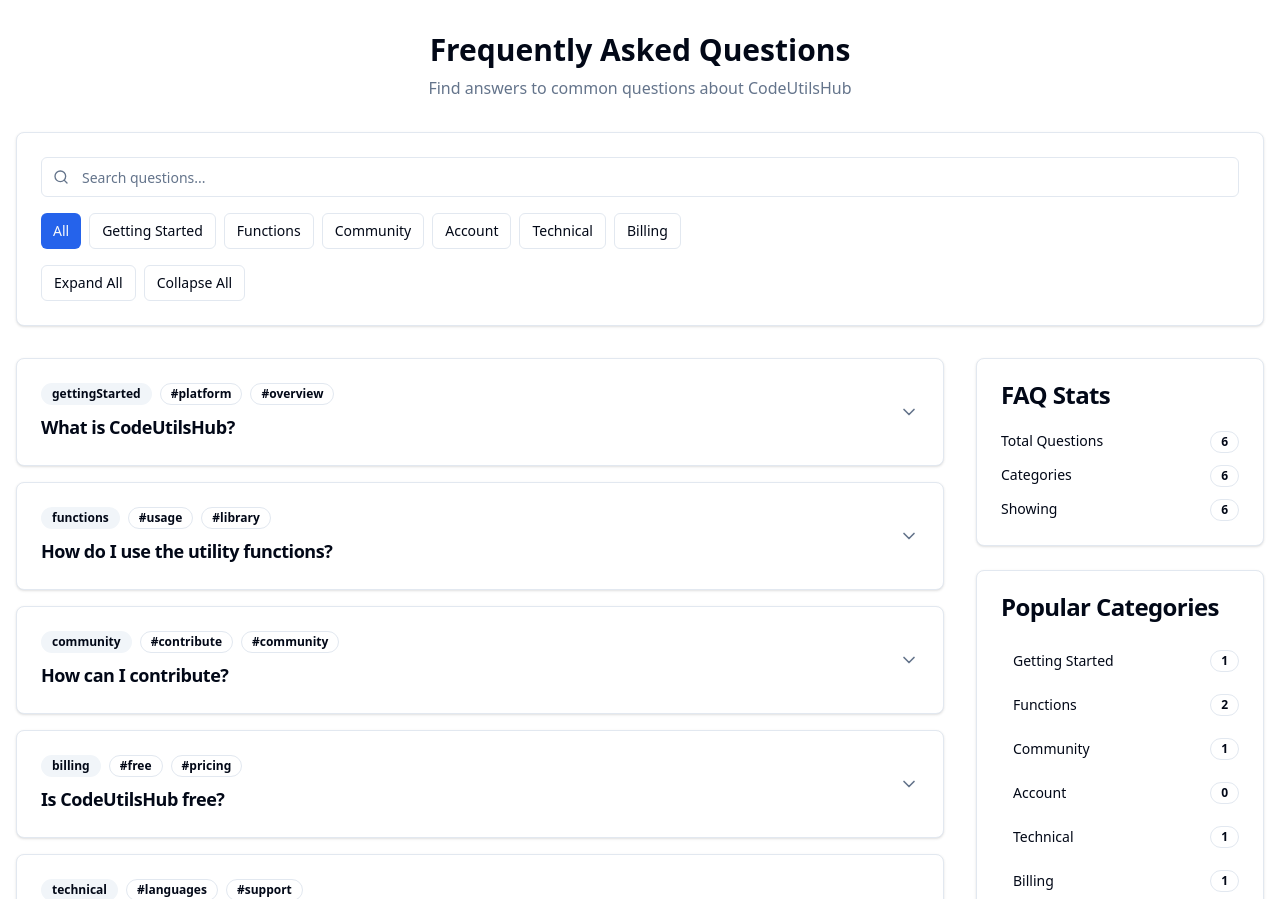
Test: FAQPage › expands all FAQs when Expand All is clicked
The image size is (1280, 899).
What coordinates should you click on to do the following:
click the button "Expand All"
I would click on:
 (88, 283)
Its box is [41,265,136,301].
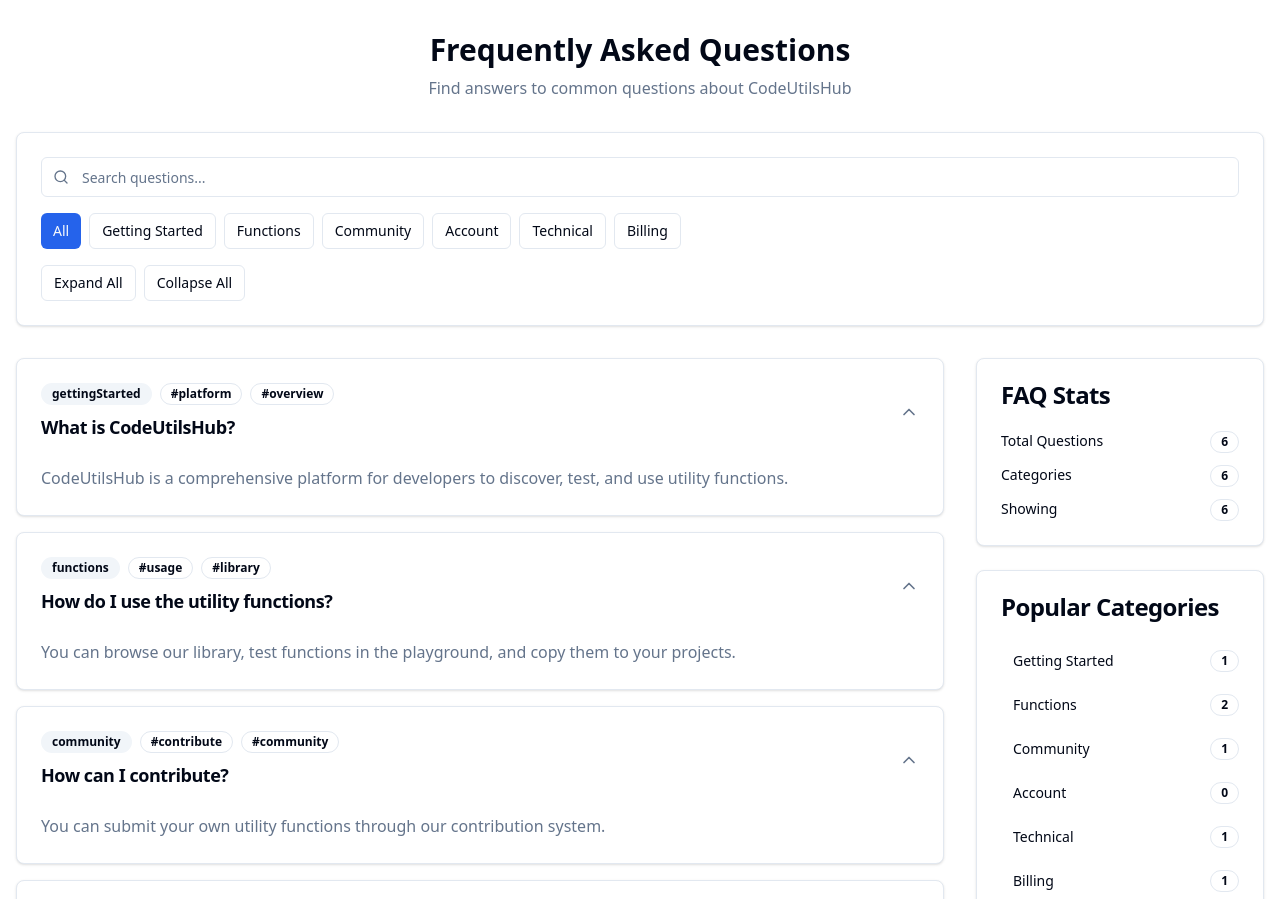
Check: the text "CodeUtilsHub is a comprehensive platform for developers to discover, test, and use utility functions." is shown, box [41,467,788,489]
Check: the text "You can browse our library, test functions in the playground, and copy them to your projects." is shown, box [41,641,736,663]
